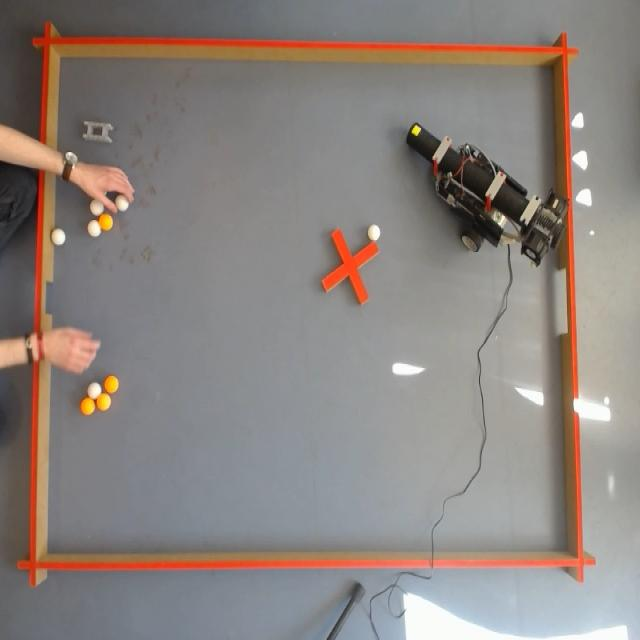orange: (98, 210, 114, 233), (96, 394, 112, 411), (81, 397, 95, 416), (104, 375, 118, 393)
robot: (407, 123, 569, 266)
robot-front: (412, 120, 424, 139)
white: (50, 227, 68, 249), (366, 223, 382, 244), (86, 218, 100, 239), (90, 197, 102, 219), (88, 380, 101, 400)
